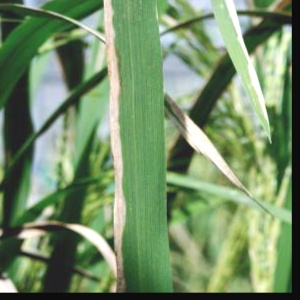Leaf_Blast: (109, 0, 167, 293), (236, 37, 274, 142)
